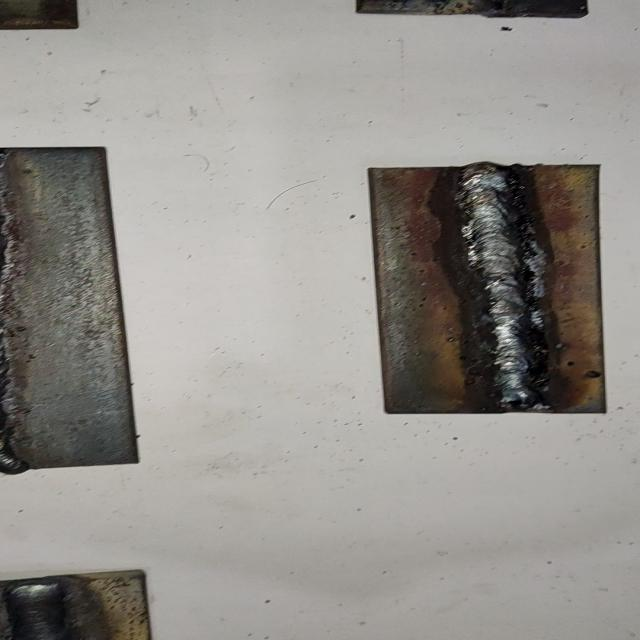Good Weld: (458, 169, 544, 410)
